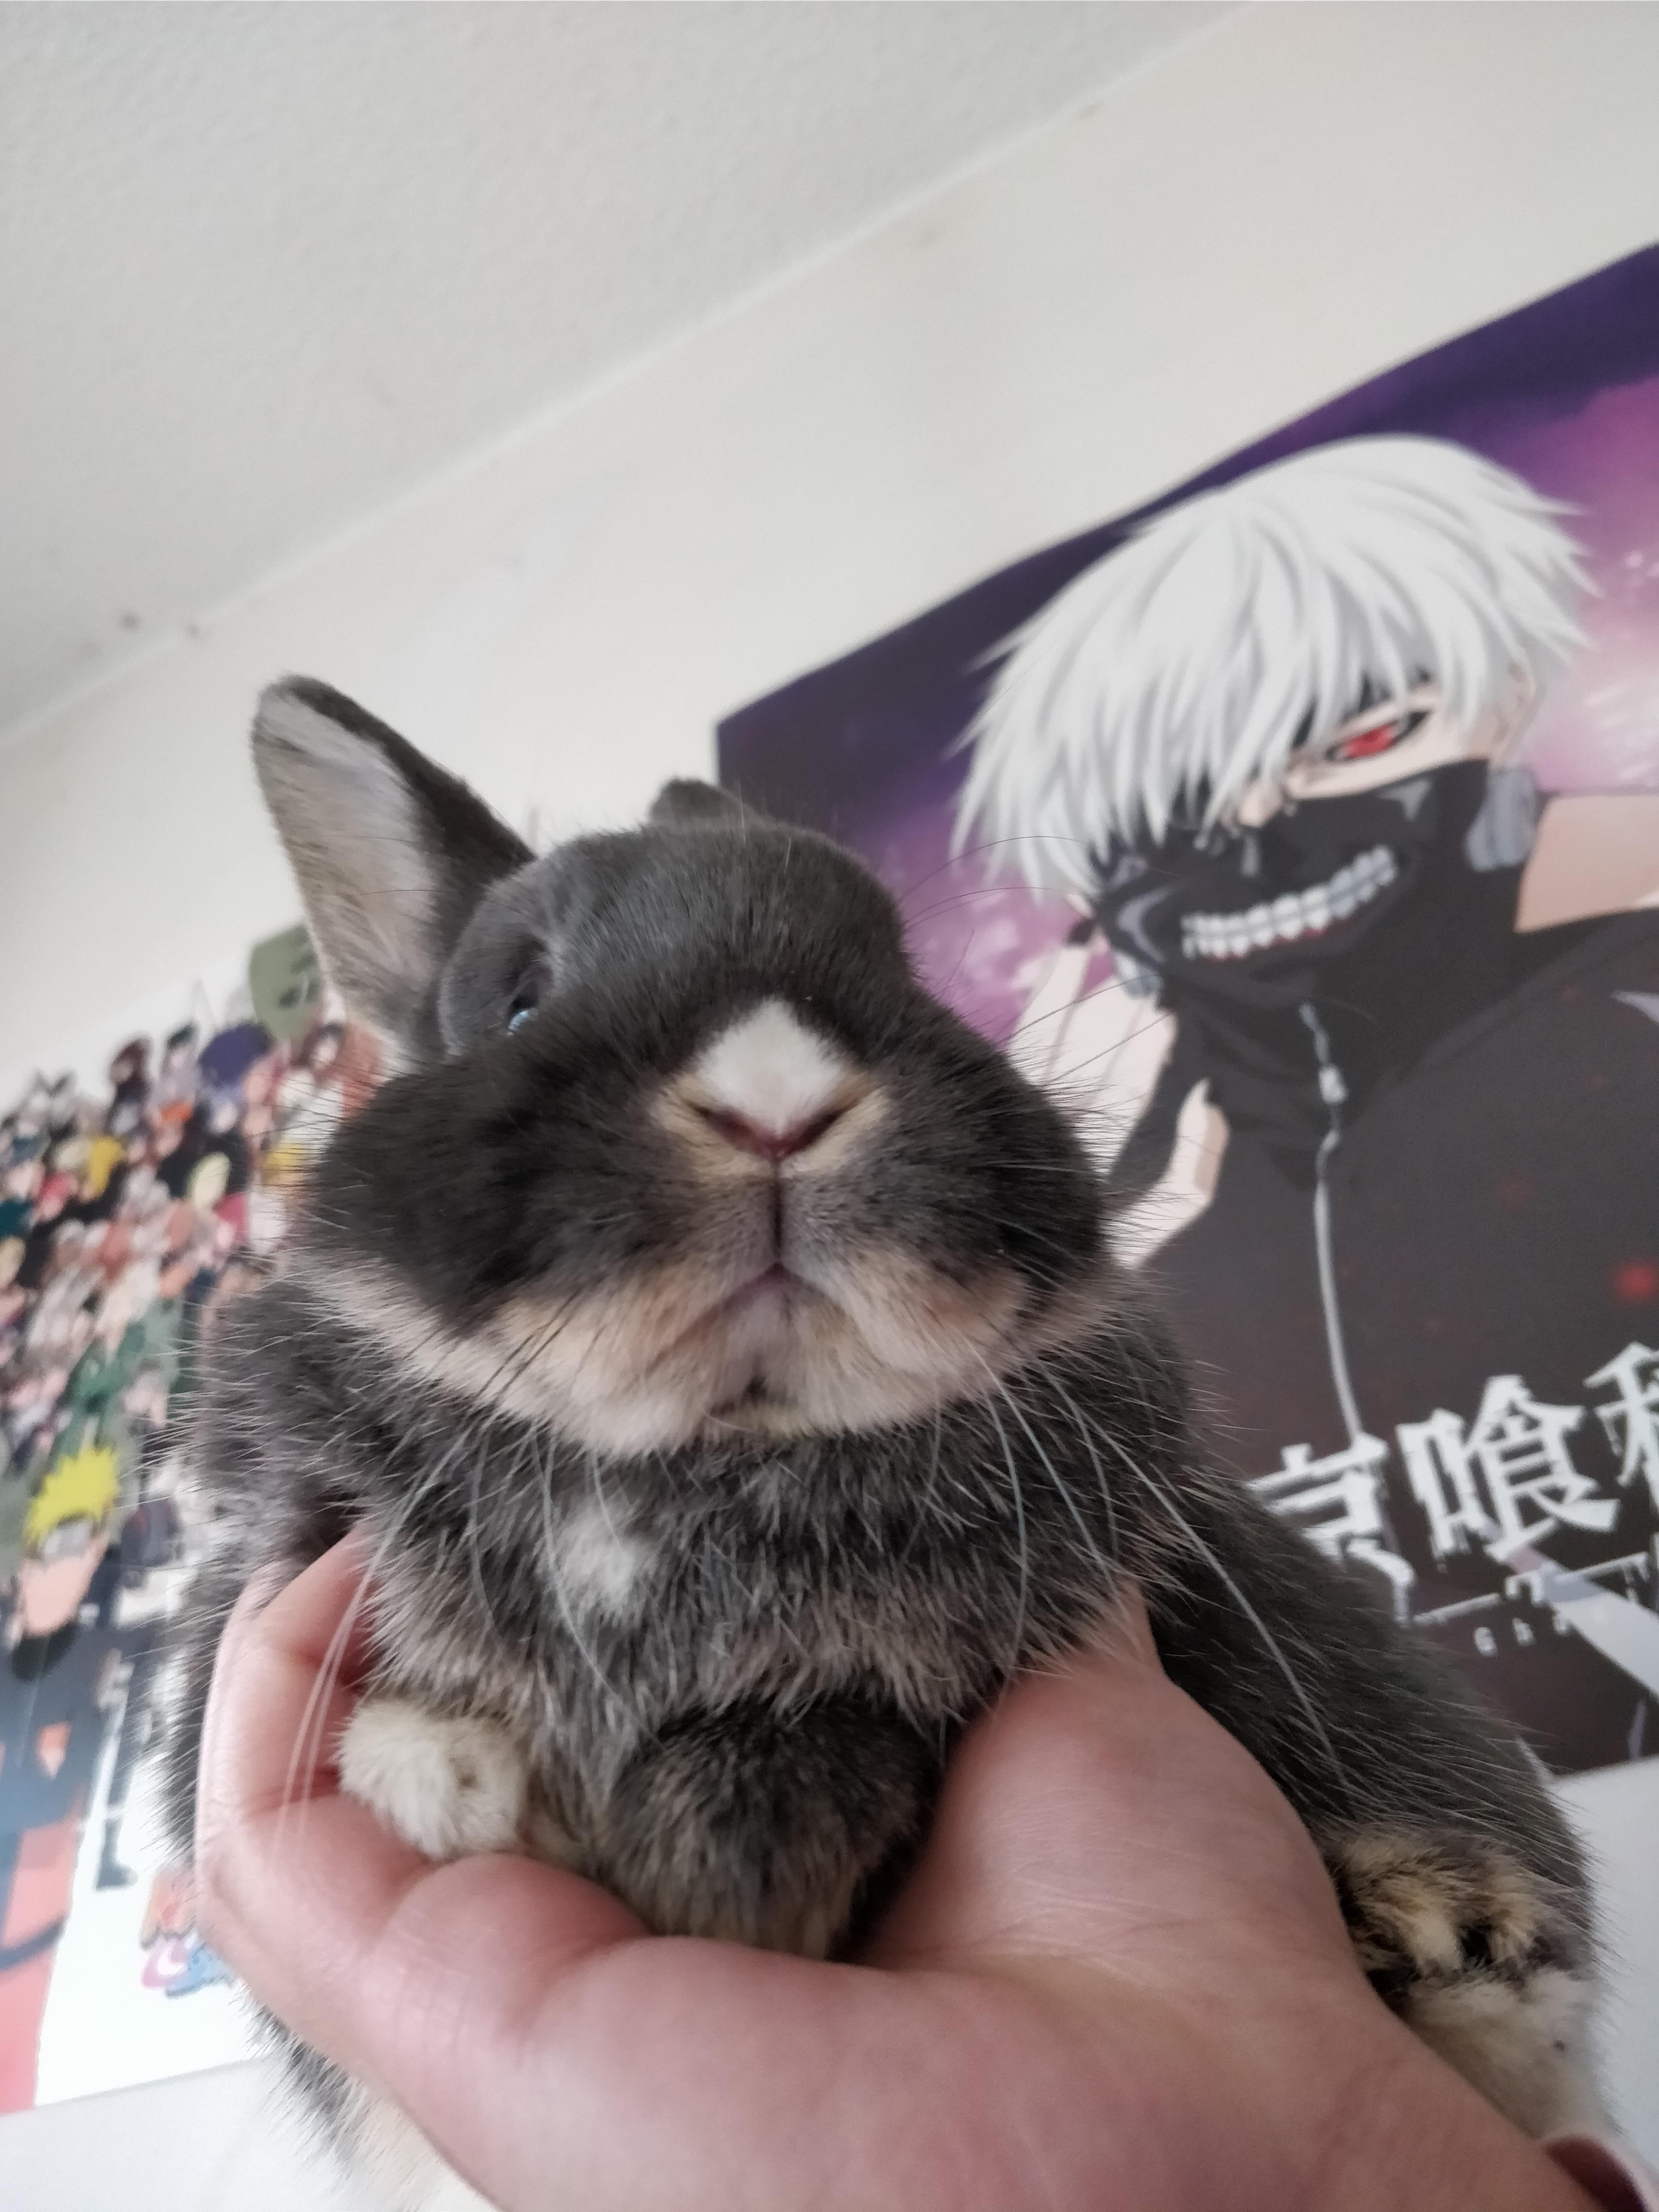bunny: (113, 653, 1659, 2191)
